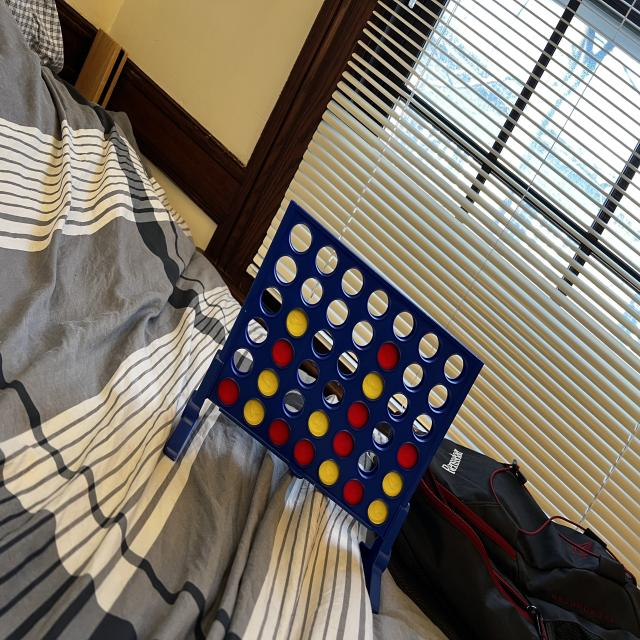Board: (205, 200, 486, 542)
No Piece: (324, 294, 352, 331), (410, 404, 436, 443), (299, 270, 323, 310), (243, 314, 270, 349), (309, 327, 336, 362), (313, 242, 339, 278), (369, 417, 395, 453), (258, 283, 285, 317), (335, 347, 361, 382), (400, 360, 428, 392), (352, 314, 376, 351), (288, 221, 314, 255), (416, 329, 442, 363), (281, 386, 305, 422), (295, 356, 319, 392), (229, 344, 255, 377), (385, 390, 411, 423), (390, 308, 415, 342), (366, 286, 390, 321), (320, 377, 346, 409), (443, 350, 467, 384), (341, 264, 364, 299), (356, 447, 380, 480), (275, 255, 298, 287)
Red Piece: (376, 339, 402, 374), (396, 436, 419, 473), (268, 416, 292, 450), (341, 477, 366, 508), (271, 338, 295, 370), (332, 428, 356, 460), (346, 400, 370, 431), (217, 376, 240, 407), (293, 436, 316, 466)
Yellow Piece: (285, 306, 309, 339), (242, 397, 266, 428), (362, 369, 385, 401), (257, 367, 280, 398), (307, 408, 330, 438), (382, 469, 404, 499), (318, 459, 339, 487), (368, 498, 389, 526)
